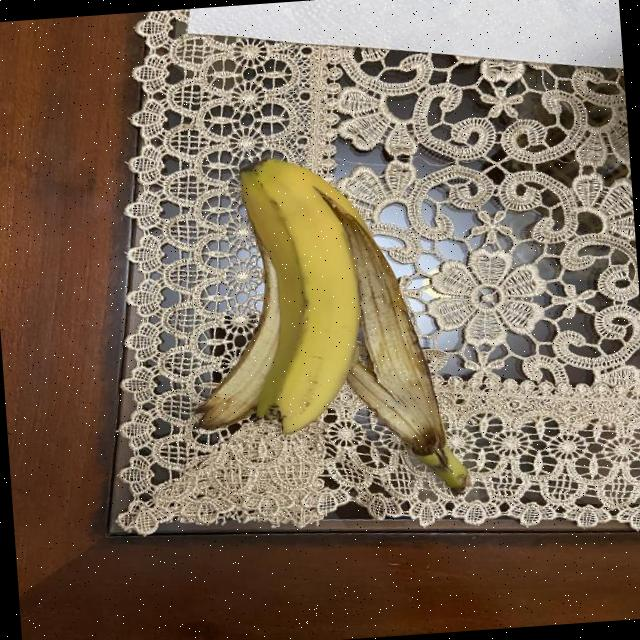banana-peel: (180, 142, 470, 508), (311, 170, 469, 498), (234, 152, 368, 436)
